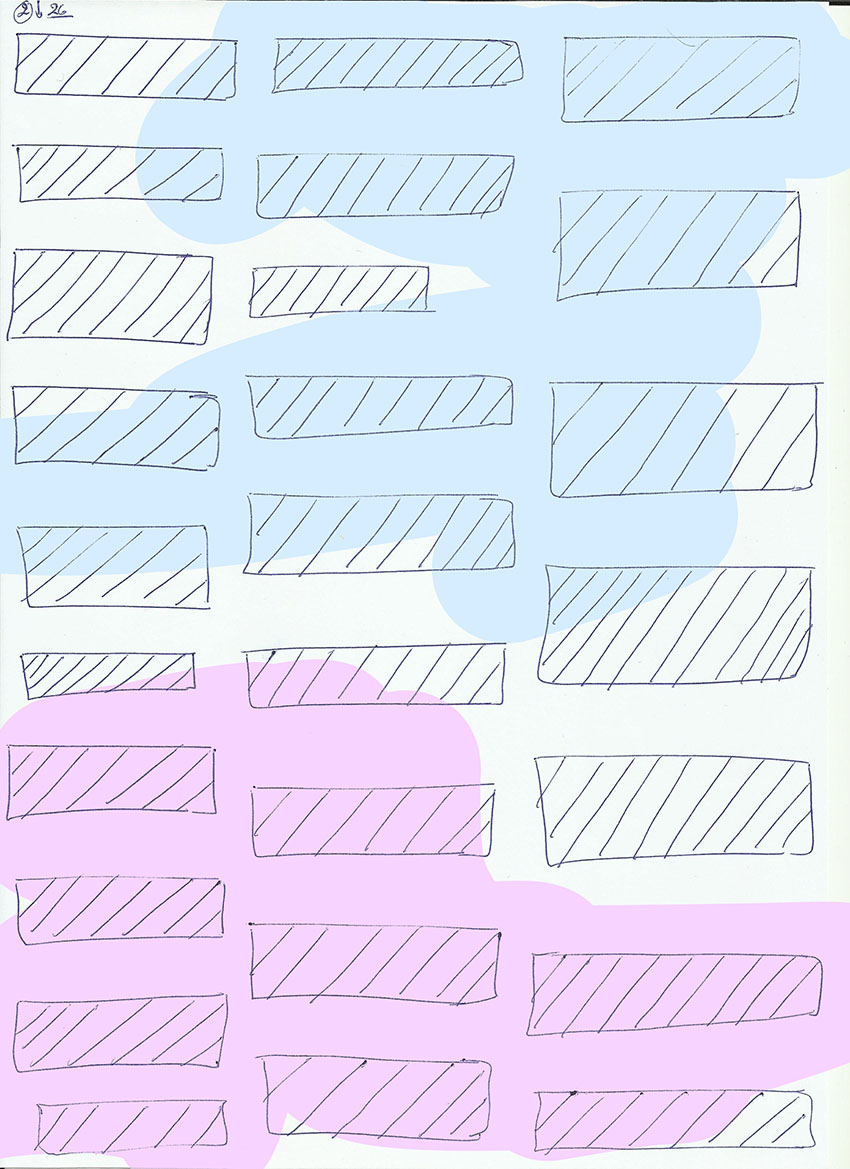frame: (533, 560, 818, 694), (545, 377, 824, 502), (530, 752, 818, 872), (550, 184, 805, 305), (521, 948, 826, 1041), (238, 487, 519, 579), (244, 917, 505, 1009), (254, 1050, 493, 1146), (558, 31, 802, 124), (4, 244, 214, 349), (530, 1087, 818, 1159), (246, 780, 498, 862), (241, 369, 517, 443), (8, 381, 223, 475), (238, 640, 510, 712), (254, 149, 517, 222), (13, 521, 213, 616), (1, 740, 219, 825), (10, 991, 230, 1075), (12, 29, 238, 105), (11, 871, 230, 947), (269, 34, 524, 99), (8, 140, 227, 204), (32, 1097, 231, 1158), (245, 262, 436, 321), (16, 647, 199, 702)
